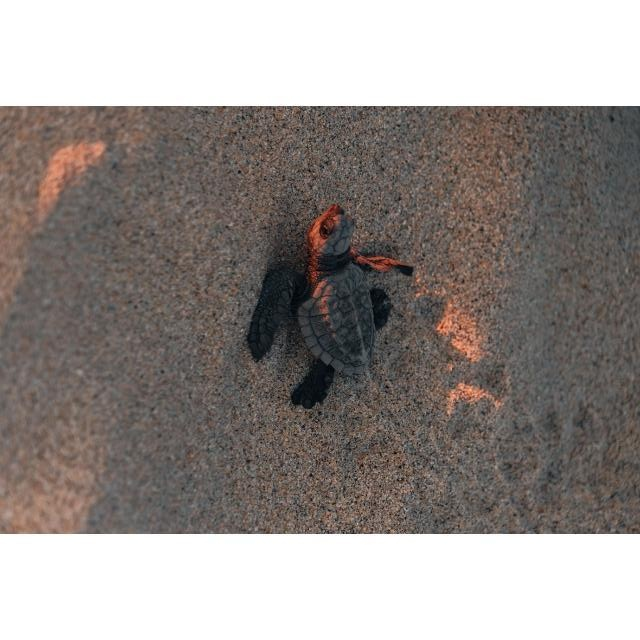turtle: (244, 204, 416, 411)
